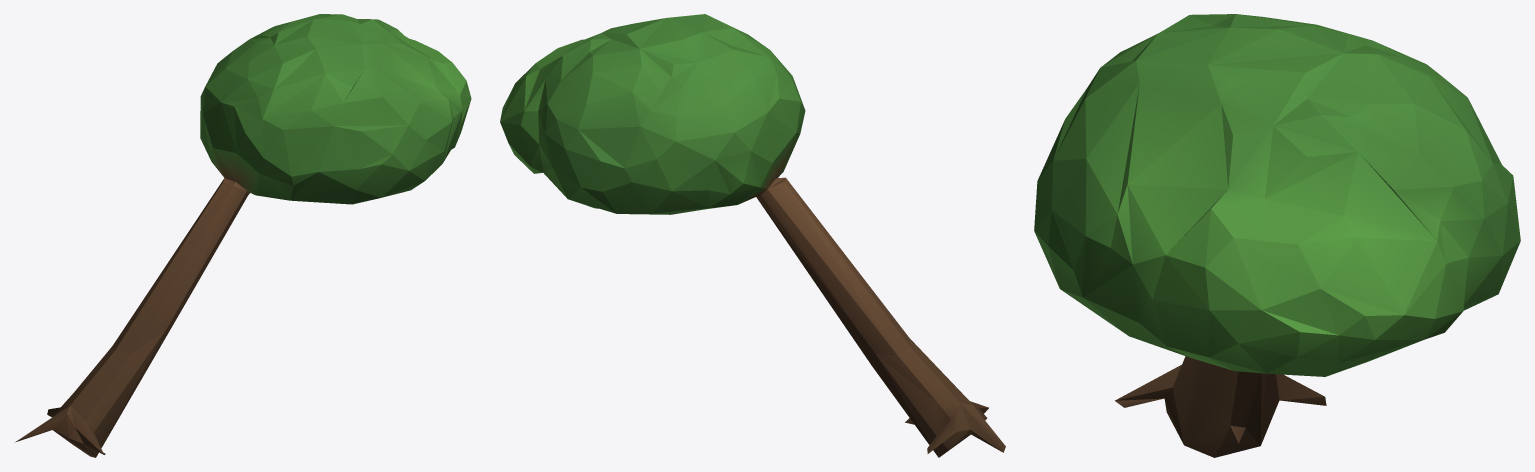
The model's file is broadleaf_leaning_far.glb.
The picture shows the model from 3 angles, left to right: view 1: azimuth 30°, elevation 25°; view 2: azimuth 150°, elevation 25°; view 3: azimuth 270°, elevation 25°; orthographic projection. The views are drawn at different scales.
Visible parts, largest first — view 1: broadleaf_leaning_LOD3; view 2: broadleaf_leaning_LOD3; view 3: broadleaf_leaning_LOD3.
Part boxes in pixels (x1,y1,x2,y2): broadleaf_leaning_LOD3: [15, 14, 471, 457]; broadleaf_leaning_LOD3: [500, 14, 1005, 457]; broadleaf_leaning_LOD3: [1034, 14, 1520, 457].
Size of the model in its own units: 5.12 by 3.75 by 2.59.
